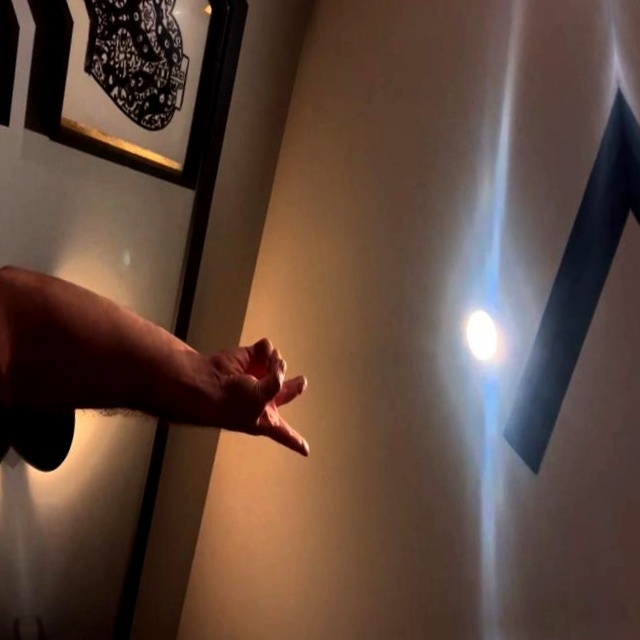Scissors: (219, 331, 318, 465)
